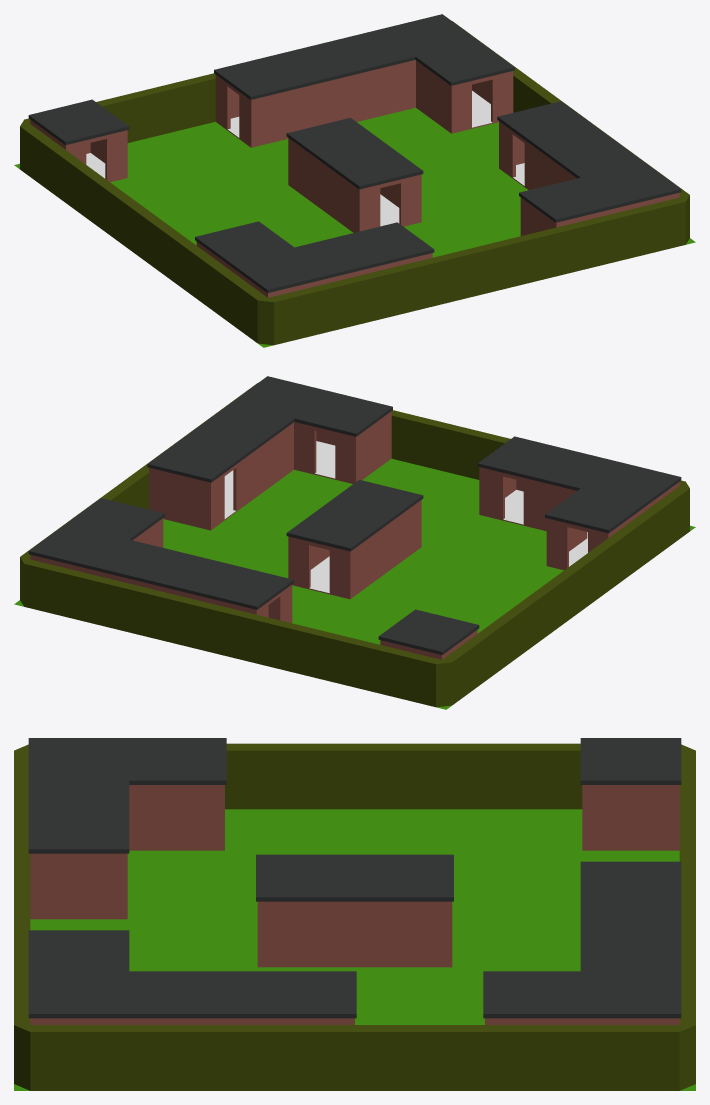
The model's file is AllForOne Map.fbx.
The picture shows the model from 3 angles, top to bottom: view 1: azimuth 30°, elevation 25°; view 2: azimuth 150°, elevation 25°; view 3: azimuth 270°, elevation 25°; orthographic projection. The views are drawn at different scales.
Parts seen in each view (by area): view 1: Border, Floor, Building4, Roof4, Roof3, Roof5, Building1, Roof1, Building3, Roof2, Building2, Building5; view 2: Border, Floor, Building3, Roof4, Roof3, Roof5, Building1, Building5, Roof1, Roof2, Building4, Building2; view 3: Border, Floor, Roof4, Roof3, Roof5, Building1, Building5, Roof1, Building2, Roof2, Building3, Building4.
Boxes of the visible parts, <box> form: Border: <box>20,21,689,345</box>; Floor: <box>14,107,695,347</box>; Building4: <box>215,60,513,147</box>; Roof4: <box>214,14,514,99</box>; Roof3: <box>497,101,681,222</box>; Roof5: <box>195,221,434,292</box>; Building1: <box>288,138,421,232</box>; Roof1: <box>286,118,423,189</box>; Building3: <box>499,121,679,235</box>; Roof2: <box>28,99,129,145</box>; Building2: <box>30,120,127,182</box>; Building5: <box>196,241,432,297</box>; Border: <box>20,383,689,707</box>; Floor: <box>14,458,695,709</box>; Building3: <box>149,411,391,530</box>; Roof4: <box>28,498,293,609</box>; Roof3: <box>147,376,392,482</box>; Roof5: <box>477,436,681,533</box>; Building1: <box>288,500,421,599</box>; Building5: <box>479,467,679,570</box>; Roof1: <box>286,480,423,551</box>; Roof2: <box>378,609,479,654</box>; Building4: <box>30,518,292,623</box>; Building2: <box>380,629,477,659</box>; Border: <box>14,743,695,1090</box>; Floor: <box>14,809,695,1090</box>; Roof4: <box>483,861,681,1018</box>; Roof3: <box>28,930,356,1018</box>; Roof5: <box>28,738,226,853</box>; Building1: <box>257,901,452,967</box>; Building5: <box>30,785,224,919</box>; Roof1: <box>256,854,453,901</box>; Building2: <box>582,785,679,850</box>; Roof2: <box>580,738,681,784</box>; Building3: <box>30,1018,354,1024</box>; Building4: <box>485,1018,679,1024</box>.
Bounding box in the file's own units: 2100 × 240 × 2100.
